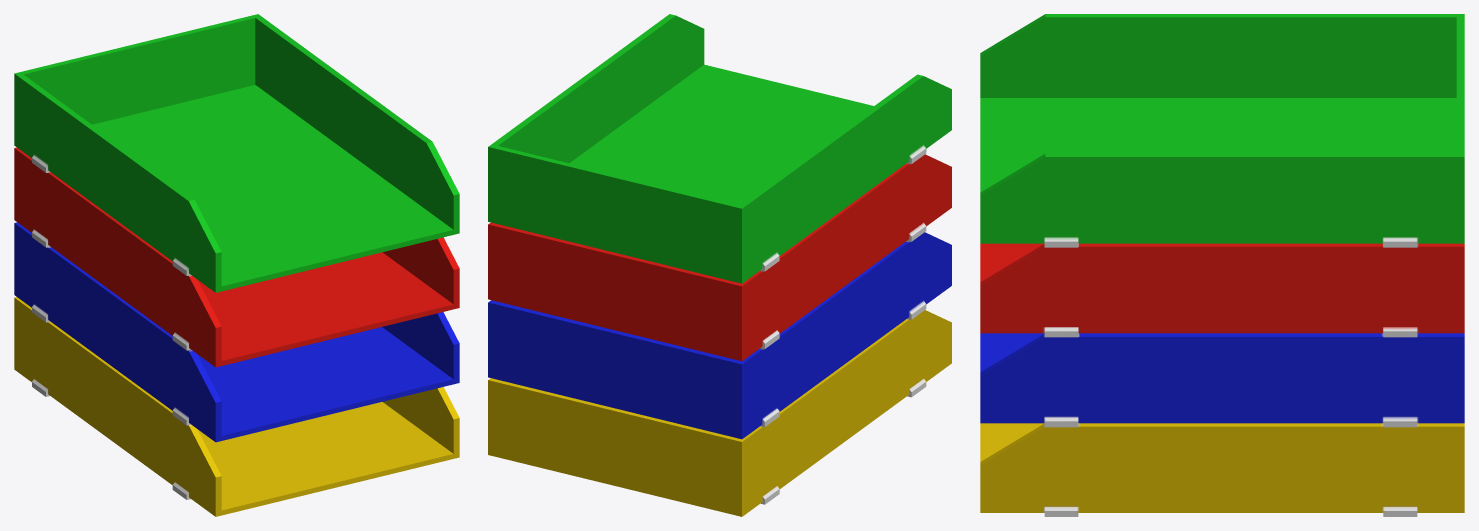
The model's file is DocumentShelfV1.fbx.
3 renders of one model, left to right at view 1: azimuth 30°, elevation 25°; view 2: azimuth 150°, elevation 25°; view 3: azimuth 270°, elevation 25°, orthographic. The views are drawn at different scales.
Visible parts, largest first — view 1: Plane; view 2: Plane; view 3: Plane.
Part boxes in pixels (x1=…): Plane: x1=14, y1=14, x2=459, y2=516; Plane: x1=488, y1=14, x2=951, y2=516; Plane: x1=980, y1=14, x2=1464, y2=516.
Size of the model in its own units: 28.41 by 32.61 by 39.92.
Materials: 1 (1 with a texture image).
